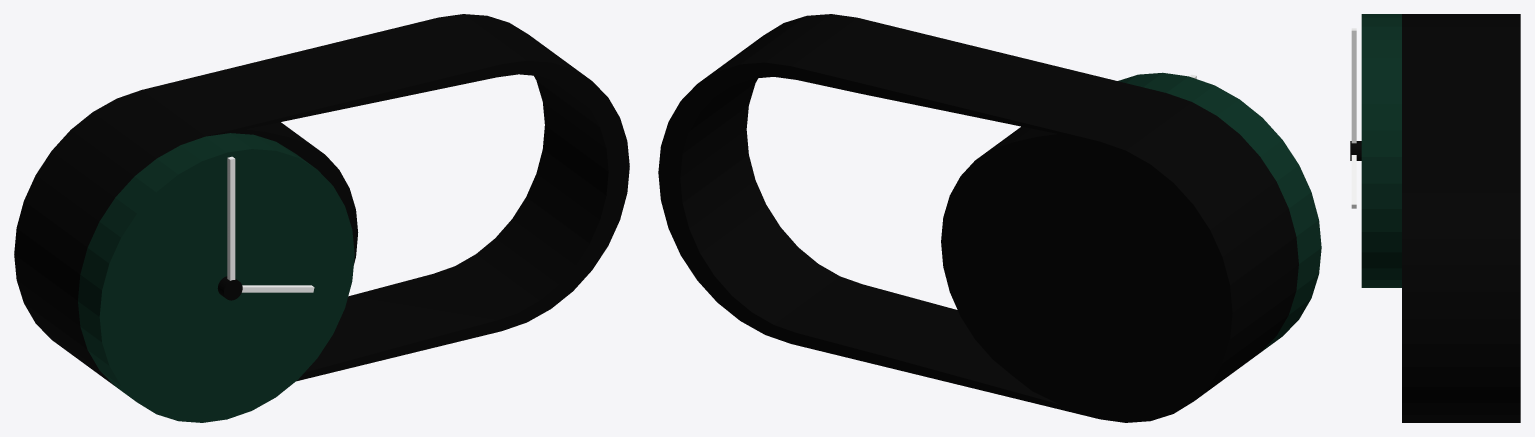
The model's file is horloge 1.dae.
3 renders of one model, left to right at view 1: azimuth 30°, elevation 25°; view 2: azimuth 150°, elevation 25°; view 3: azimuth 270°, elevation 25°, orthographic. The views are drawn at different scales.
Visible parts, largest first — view 1: Circle; view 2: Circle; view 3: Circle.
Part boxes in pixels (x1,y1,x2,y2): Circle: (14,14,629,422); Circle: (658,14,1321,422); Circle: (1350,14,1520,422).
Bounding box in the file's own units: 2.37 × 0.6825 × 1.1.
